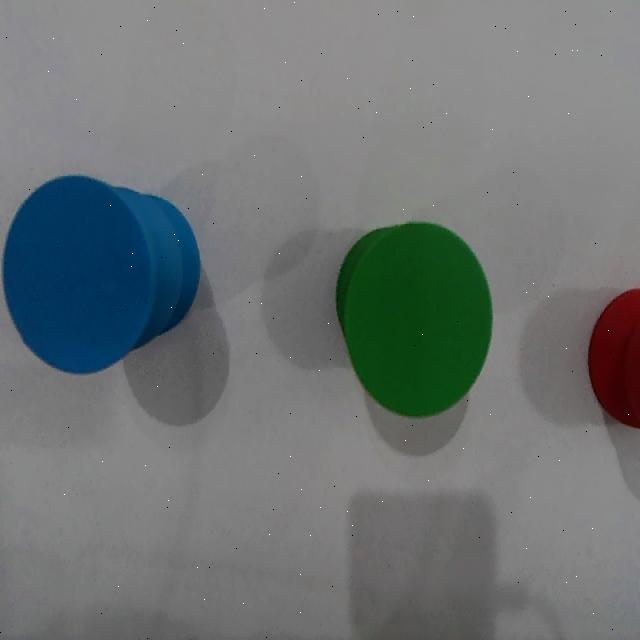b: (3, 174, 155, 374)
g: (345, 221, 492, 417)
